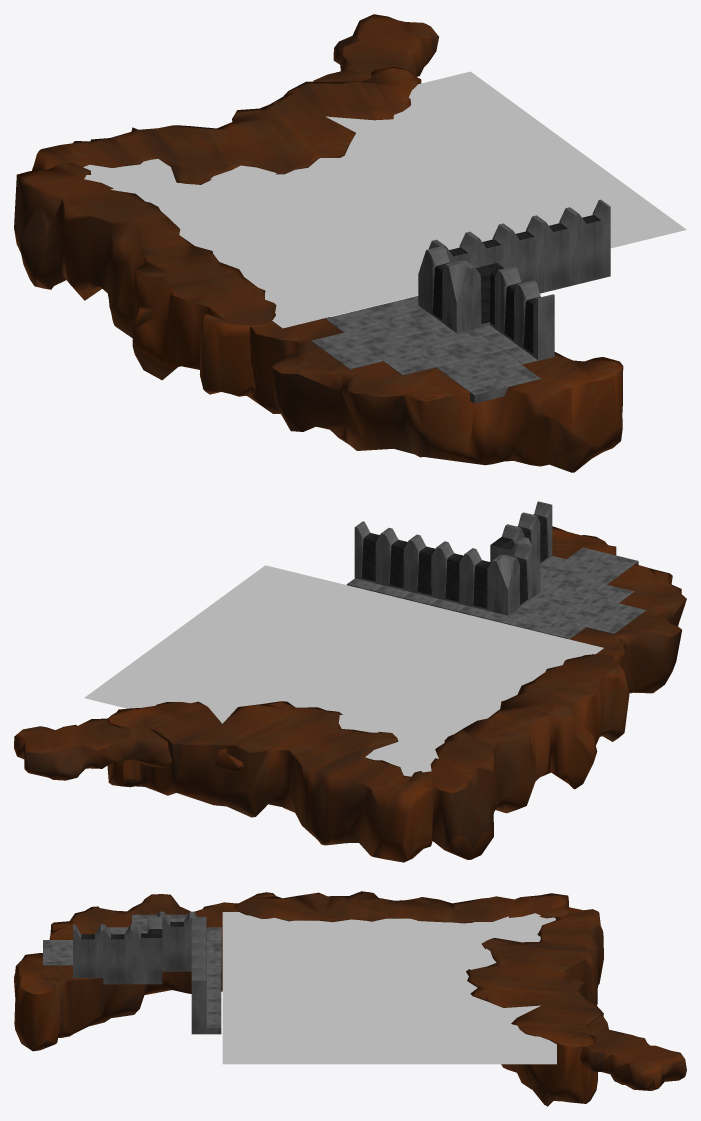
The model's file is LV1Floor.fbx.
The picture shows the model from 3 angles, top to bottom: view 1: azimuth 30°, elevation 25°; view 2: azimuth 150°, elevation 25°; view 3: azimuth 270°, elevation 25°; orthographic projection. The views are drawn at different scales.
Parts seen in each view (by area): view 1: RockWalkway10; view 2: RockWalkway10; view 3: RockWalkway10.
Boxes of the visible parts, box(x1,y1,x2,y2) form: RockWalkway10: box(14, 14, 686, 472); RockWalkway10: box(14, 501, 686, 862); RockWalkway10: box(14, 891, 686, 1106).
Bounding box in the file's own units: 34.76 × 10.64 × 53.08.
